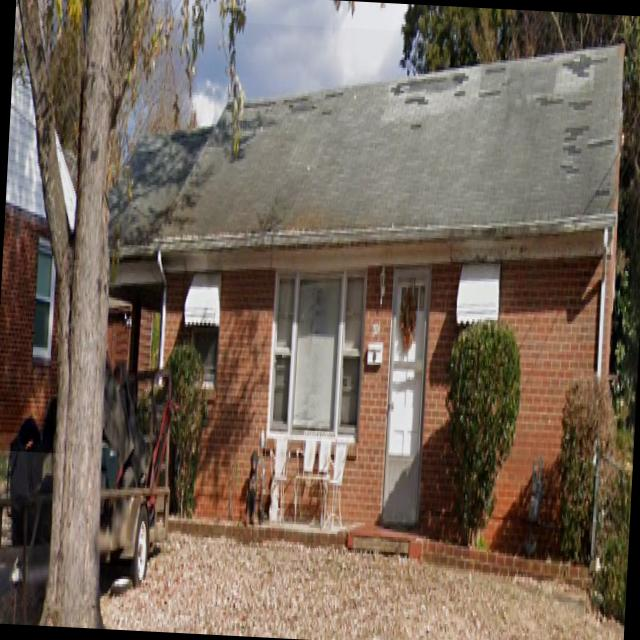House: (89, 16, 628, 591), (0, 0, 89, 454)
